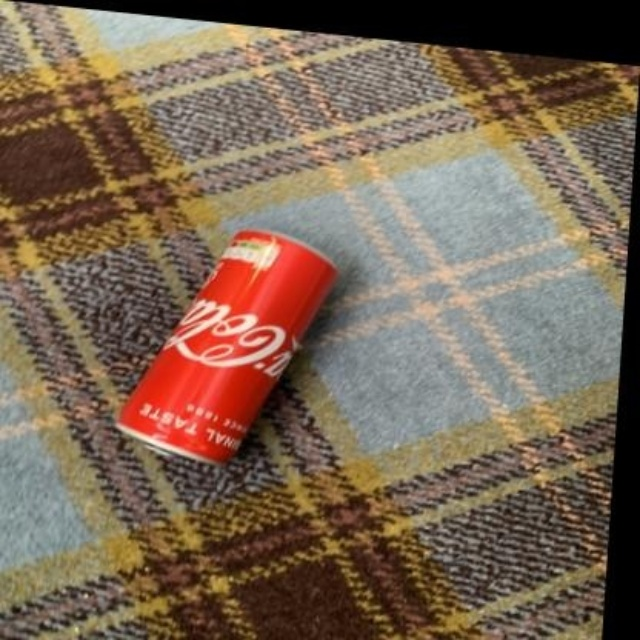trash: (117, 231, 335, 462)
